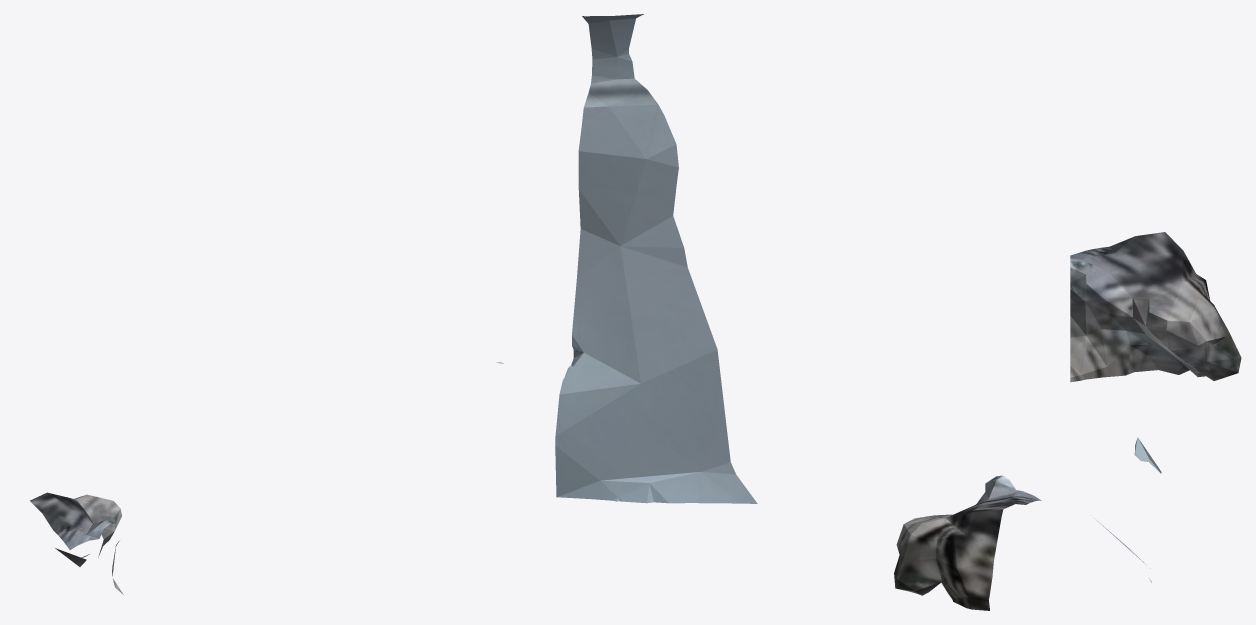
3 renders of one model, left to right at view 1: azimuth 30°, elevation 25°; view 2: azimuth 150°, elevation 25°; view 3: azimuth 270°, elevation 25°, orthographic. The views are drawn at different scales.
Bounding box in the file's own units: 3.35 × 3.35 × 0.9107.
Materials: 1 (1 with a texture image).
